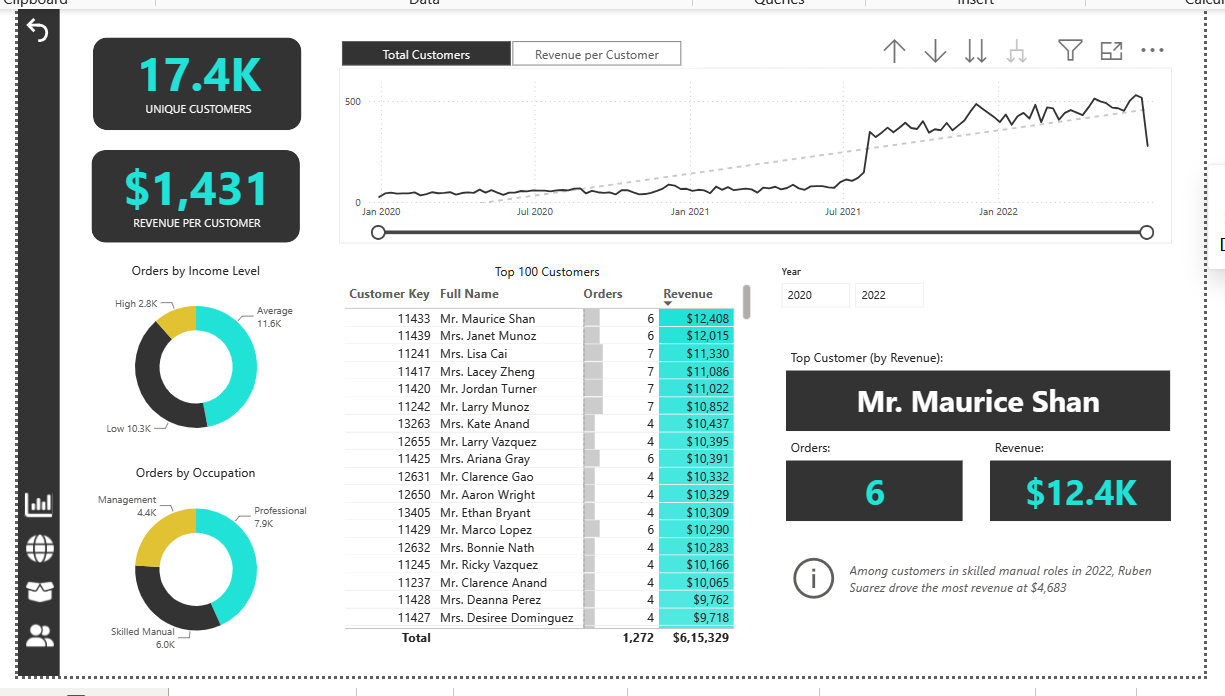

What the dashboard file says about the page in this screenshot:
{"tool":"powerbi","page":{"name":"Customer Detail","canvas":[1280,720],"ordinal":3},"visuals":[{"type":"shape","box":[0,0,45,720],"z":0},{"type":"actionButton","box":[2.5,516.7,45.6,37.8],"z":0,"group":"g1"},{"type":"shape","box":[81.7,30,225,100],"z":1000},{"type":"actionButton","box":[3.3,563.4,45.6,37.8],"z":1000,"group":"g1"},{"type":"shape","box":[80,152.7,225,100],"z":2000},{"type":"actionButton","box":[3.3,611.1,45.6,37.8],"z":2000,"group":"g1"},{"type":"card","fields":{"Values":["Measure Table.Total Customers"]},"box":[66.7,0,256.2,150],"z":3000},{"type":"actionButton","box":[3.3,657.8,45.6,37.8],"z":3000,"group":"g1"},{"type":"card","fields":{"Values":["Measure Table.Average Revenue per Customer"]},"box":[65,122.7,256.2,150],"z":4000},{"type":"lineChart","fields":{"Y":["Measure Table.Total Customers"],"Category":["Calendar Lookup.Date Hierarchy.Year","Calendar Lookup.Date Hierarchy.Start of Month","Calendar Lookup.Date Hierarchy.Start of Week","Calendar Lookup.Date Hierarchy.Date"]},"box":[345.9,63.3,898.6,188.8],"z":5000},{"type":"donutChart","title":"Orders by Income Level","fields":{"Category":["Customer Lookup.Income Level"],"Y":["Measure Table.Total Orders"]},"box":[63.8,272.5,257.5,210],"z":6000},{"type":"donutChart","title":"Orders by Occupation","fields":{"Y":["Measure Table.Total Orders"],"Category":["Customer Lookup.Occupation"]},"box":[63.8,490,257.5,210],"z":7000},{"type":"tableEx","title":"Top 100 Customers","fields":{"Values":["Customer Lookup.CustomerKey","Customer Lookup.Full Name","Measure Table.Total Orders","Measure Table.Total Revenue"]},"box":[346,273.6,449.4,418.4],"z":8000},{"type":"card","fields":{"Values":["Min(Customer Lookup.Full Name)"]},"box":[829.6,390.1,414.5,65.1],"z":9000},{"type":"card","fields":{"Values":["Measure Table.Total Orders"]},"box":[829.6,487,190.7,65.1],"z":10000},{"type":"card","fields":{"Values":["Measure Table.Total Revenue"]},"box":[1048.7,487,195.4,65.1],"z":11000},{"type":"textbox","box":[829.6,361.7,190.7,37.9],"z":12000},{"type":"textbox","box":[829.6,458.4,190.7,37.9],"z":13000},{"type":"textbox","box":[1048.7,458.4,190.7,37.9],"z":14000},{"type":"slicer","fields":{"Values":["Calendar Lookup.Year"]},"box":[811.6,272.4,432.9,80.3],"z":15000},{"type":"actionButton","box":[830,586.7,410,56.7],"z":16000},{"type":"actionButton","box":[3.3,5.6,35.6,35.6],"z":17000},{"type":"group","id":"g1","title":"Navigation Buttons","box":[2.5,516.7,46.4,178.9],"z":18000},{"type":"slicer","fields":{"Values":["Customer Metric Selection.Customer Metric Selection"]},"box":[323.3,27.1,415.9,36.2],"z":19000}]}

Visuals, with their boxes on the page's 1280x720 design canvas (x1, y1, x2, y2). These are canvas units, not pixel positions in the 1225x696 screenshot, which may show the page scaled, cropped or inside an application window:
shape: [0,0,45,720]
actionButton: [2,517,48,554]
shape: [82,30,307,130]
actionButton: [3,563,49,601]
shape: [80,153,305,253]
actionButton: [3,611,49,649]
card - Measure Table.Total Customers: [67,0,323,150]
actionButton: [3,658,49,696]
card - Measure Table.Average Revenue per Customer: [65,123,321,273]
lineChart - Measure Table.Total Customers x Calendar Lookup.Date Hierarchy.Year: [346,63,1244,252]
"Orders by Income Level" donutChart: [64,272,321,482]
"Orders by Occupation" donutChart: [64,490,321,700]
"Top 100 Customers" tableEx: [346,274,795,692]
card - Min(Customer Lookup.Full Name): [830,390,1244,455]
card - Measure Table.Total Orders: [830,487,1020,552]
card - Measure Table.Total Revenue: [1049,487,1244,552]
textbox: [830,362,1020,400]
textbox: [830,458,1020,496]
textbox: [1049,458,1239,496]
slicer - Calendar Lookup.Year: [812,272,1244,353]
actionButton: [830,587,1240,643]
actionButton: [3,6,39,41]
"Navigation Buttons" group: [2,517,49,696]
slicer - Customer Metric Selection.Customer Metric Selection: [323,27,739,63]
